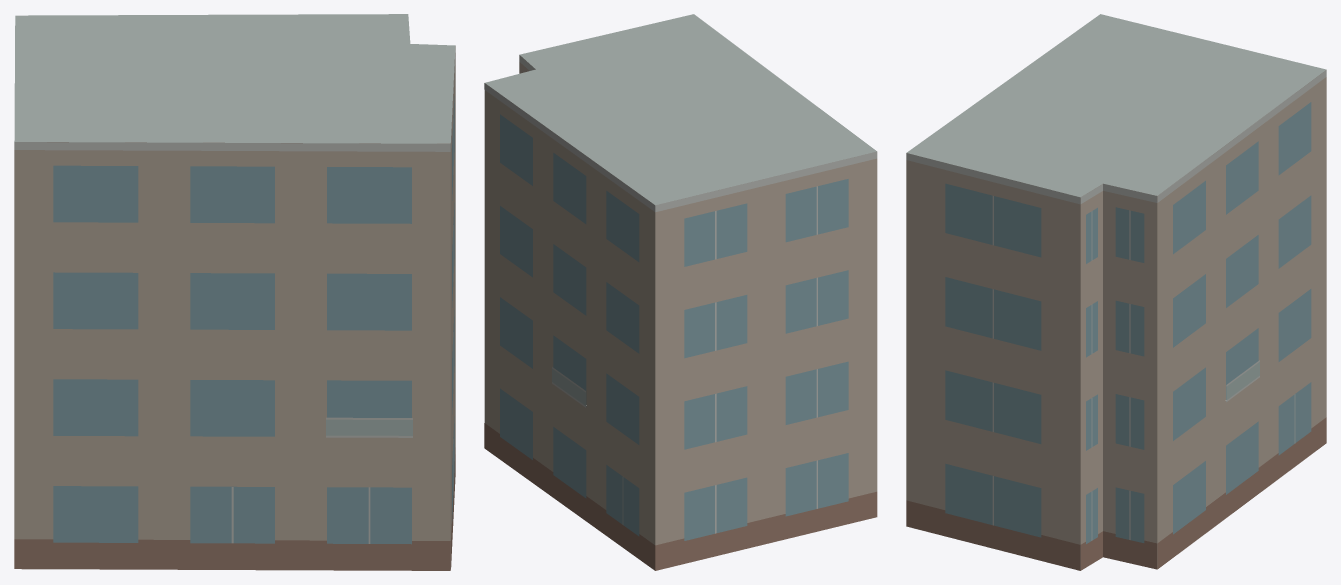
File: survey-upis-32653312.glb
3 views of the same model, side by side, from view 1: azimuth 30°, elevation 25°; view 2: azimuth 150°, elevation 25°; view 3: azimuth 270°, elevation 25° (orthographic). The views are drawn at different scales.
Parts seen in each view (by area): view 1: survey-upis-32653312.tmp; view 2: survey-upis-32653312.tmp; view 3: survey-upis-32653312.tmp.
Part boxes in pixels (left/top/right/bottom): survey-upis-32653312.tmp: left=14, top=14, right=455, bottom=570; survey-upis-32653312.tmp: left=484, top=14, right=877, bottom=570; survey-upis-32653312.tmp: left=906, top=14, right=1326, bottom=570.
Size of the model in its own units: 13.48 by 12.8 by 13.06.
